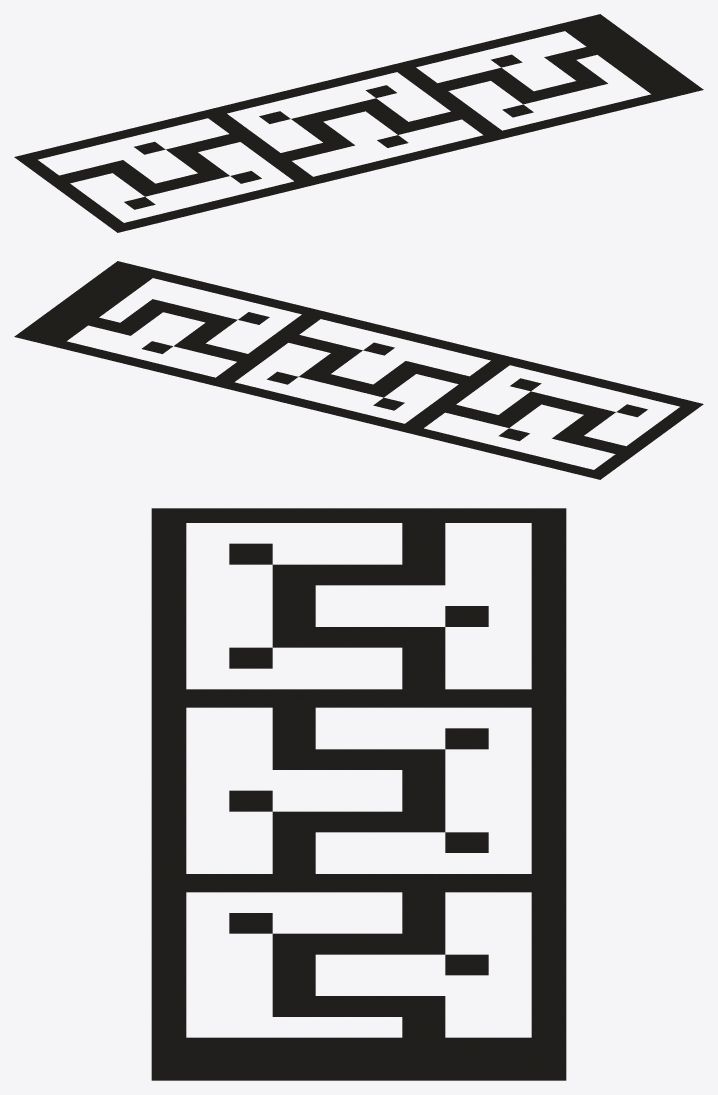
File: Asfalto percorribile.glb
3 views of the same model, one above another, from view 1: azimuth 30°, elevation 25°; view 2: azimuth 150°, elevation 25°; view 3: azimuth 270°, elevation 25° (orthographic). The views are drawn at different scales.
Visible parts, largest first — view 1: Asfalto_percorribile; view 2: Asfalto_percorribile; view 3: Asfalto_percorribile.
Part boxes in pixels (box(x1,y1,x2,y2)): Asfalto_percorribile: box(14, 14, 703, 232); Asfalto_percorribile: box(14, 261, 703, 479); Asfalto_percorribile: box(151, 508, 566, 1080).
Bounding box in the file's own units: 78.36 × 4.05e-06 × 24.
1 material, 1 textured.
